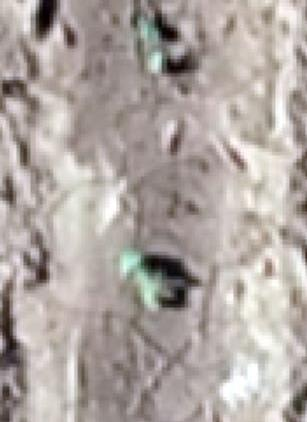cotton: (141, 276, 163, 305), (121, 249, 142, 274), (149, 50, 165, 73), (142, 24, 158, 39)
